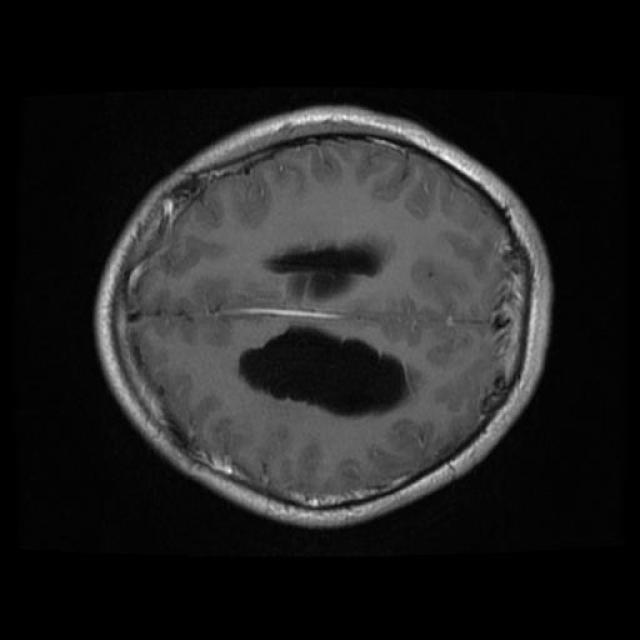Glioma: (281, 269, 356, 306)
